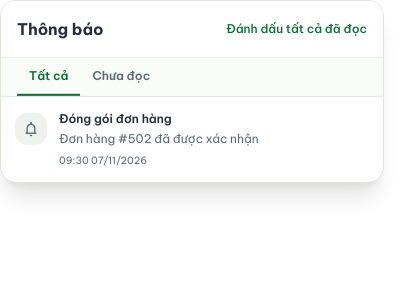
Notification UI Components › NotificationDropdown › displays empty state when there are no unread notifications on "Chưa đọc" tab
Click the tab "Chưa đọc" at {"x": 121, "y": 77}, box left=80, top=58, right=162, bottom=96
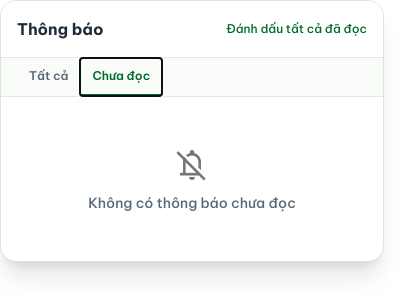
Now the text "Không có thông báo chưa đọc" is shown, box left=88, top=194, right=296, bottom=212
